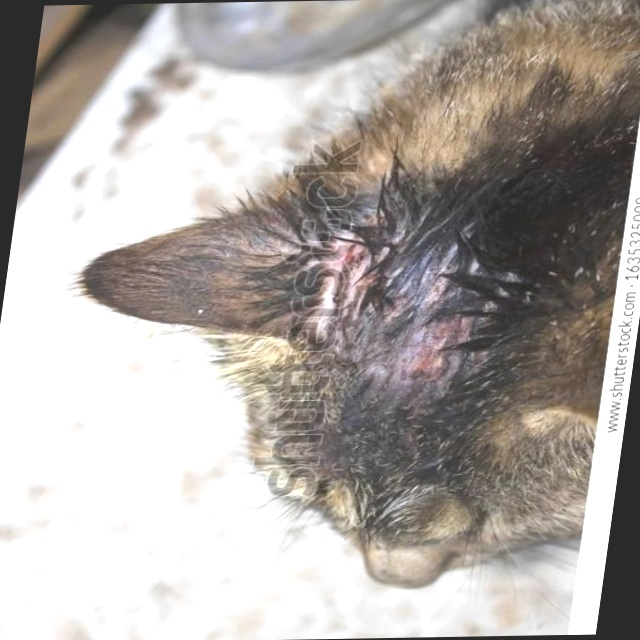ringworm: (292, 213, 493, 396)
